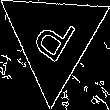P_SW: (27, 8, 80, 70)
